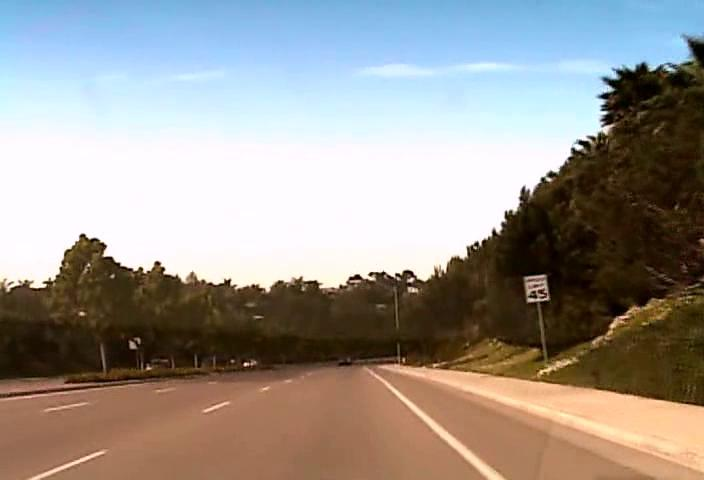speedLimit45: (523, 274, 550, 303)
